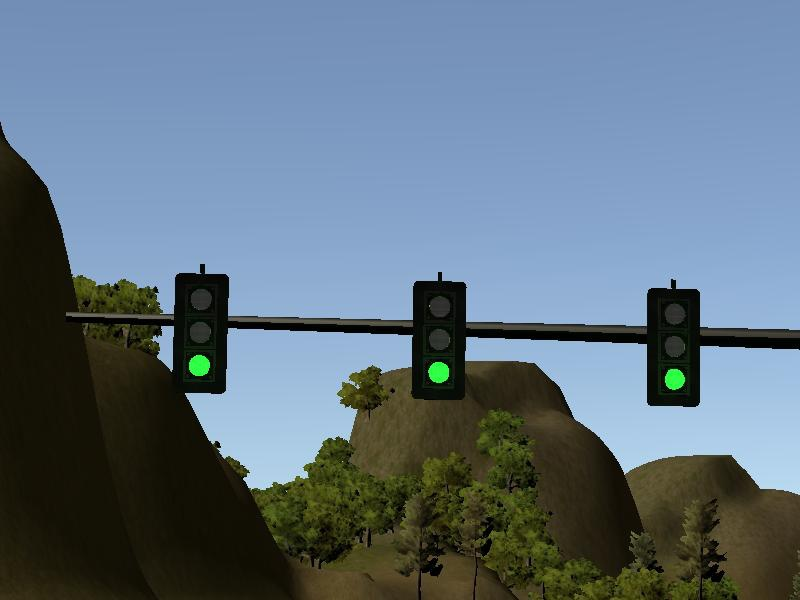Green: (175, 273, 226, 393), (648, 288, 699, 407), (414, 282, 463, 399)
